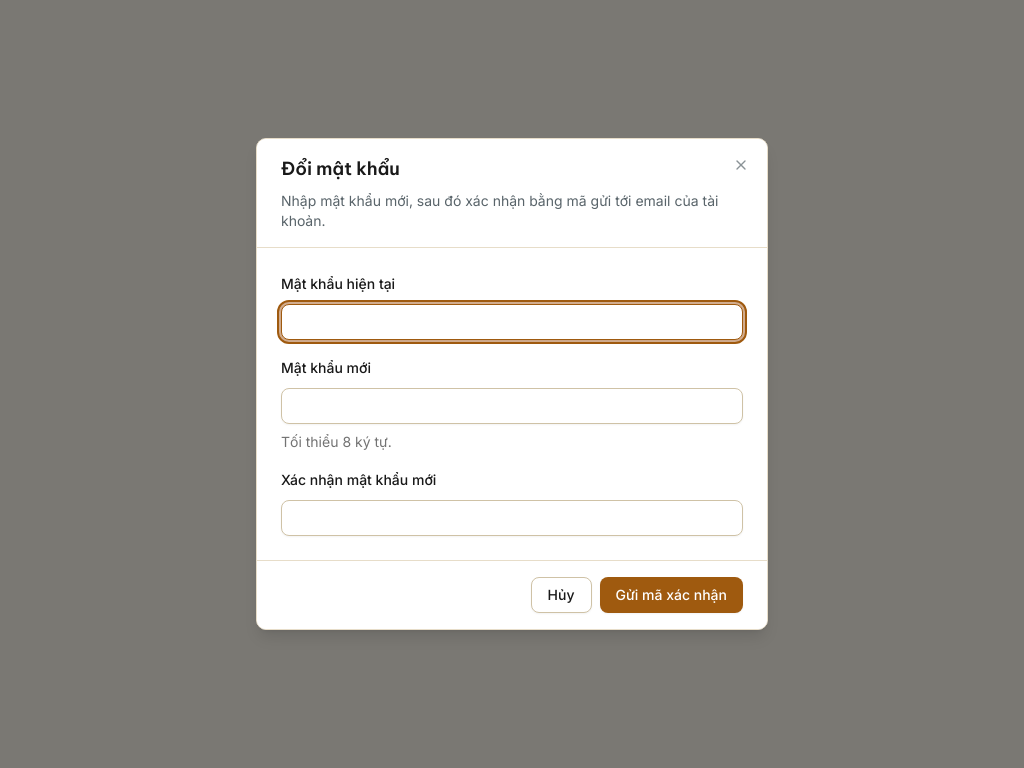
Test case: ChangePasswordDialog › gửi mã trước, chưa đổi mật khẩu hoặc đăng xuất khi email vừa được gửi
In the password field labelled "Mật khẩu hiện tại": (512, 322) [281,304,743,340], type "MatKhauCu123"
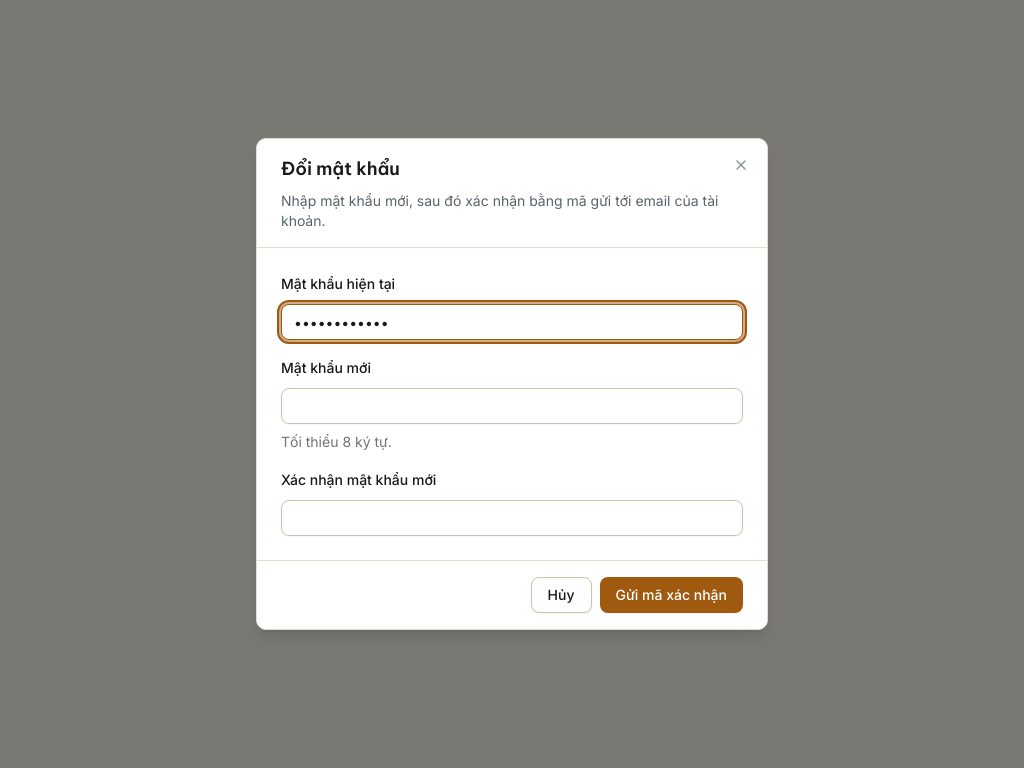
In the password field labelled "Mật khẩu mới": (512, 406) [281,388,743,424], type "MatKhauMoi456"
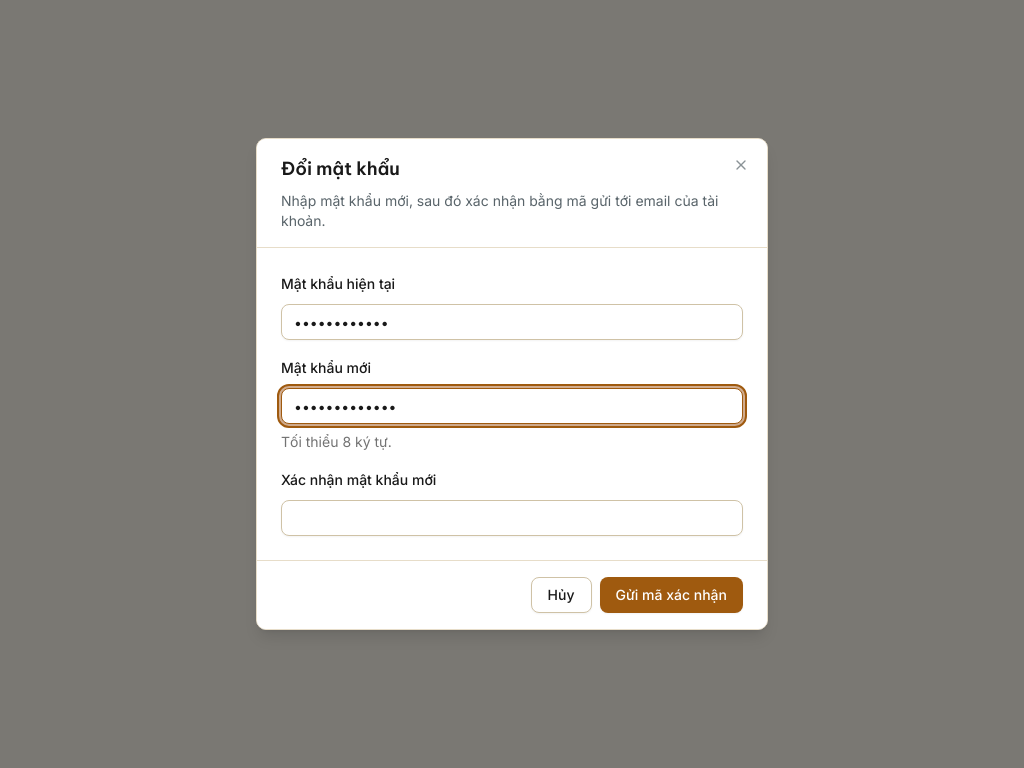
In the password field labelled "Xác nhận mật khẩu mới": (512, 518) [281,500,743,536], type "MatKhauMoi456"
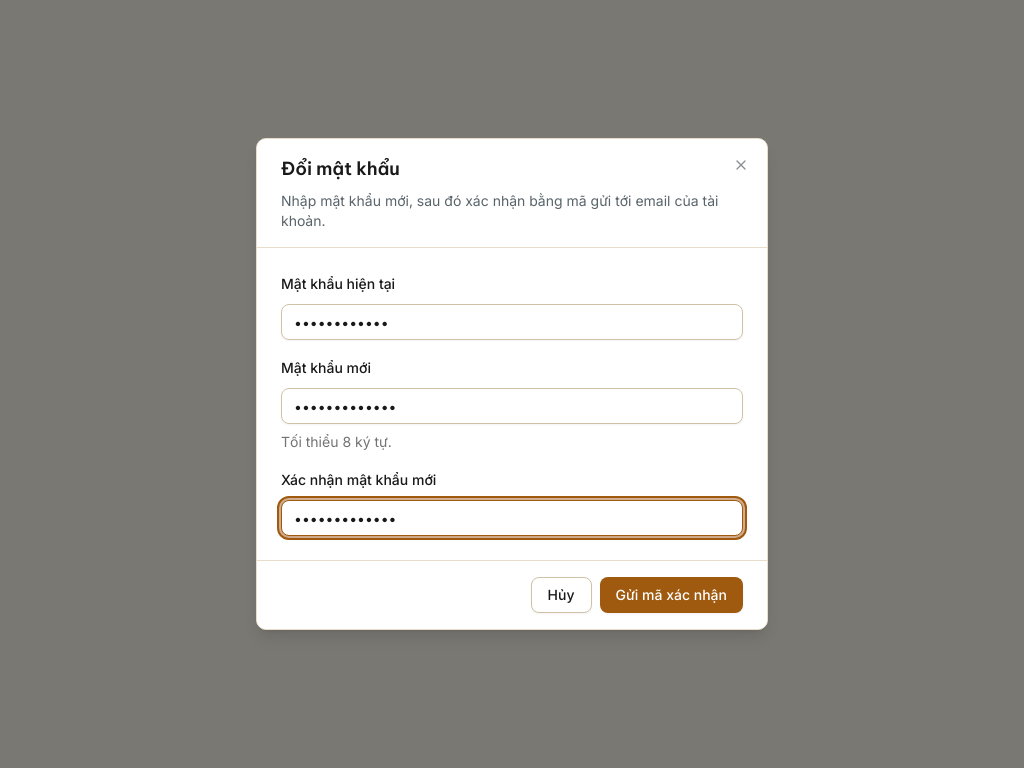
Click the button "Gửi mã xác nhận": (671, 595) [600,577,743,613]
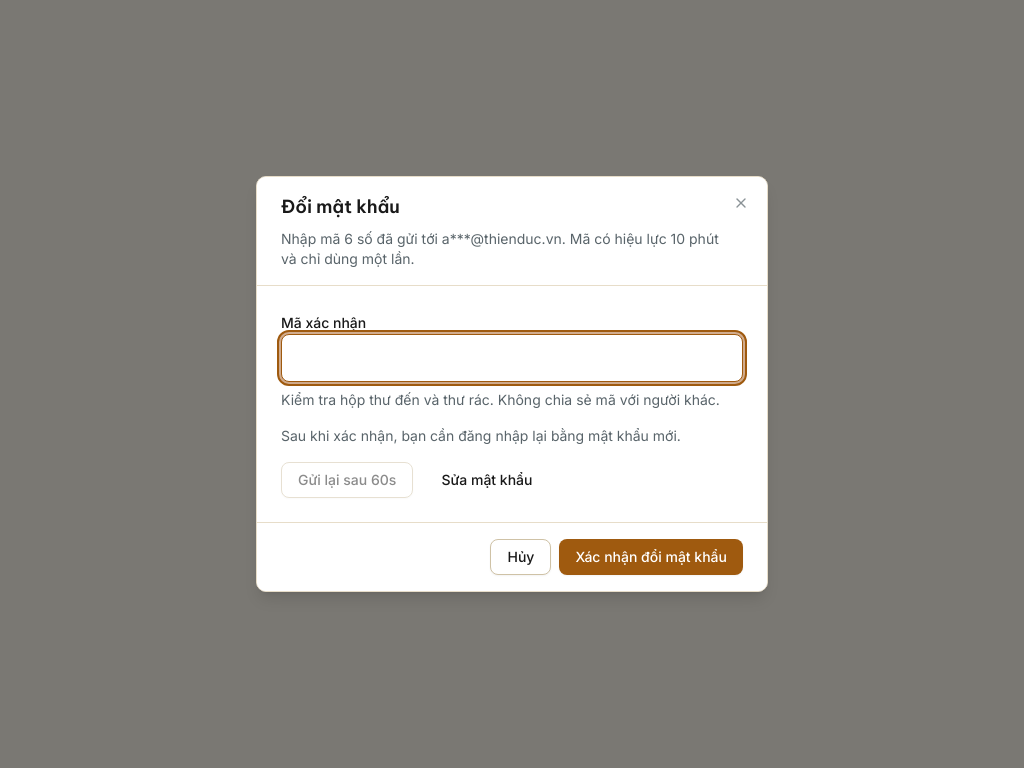
Expected: the text "a***@thienduc.vn" is shown, [281,230,719,267]
Expected: the button "Gửi lại sau 60s" is disabled, [281,462,413,498]
